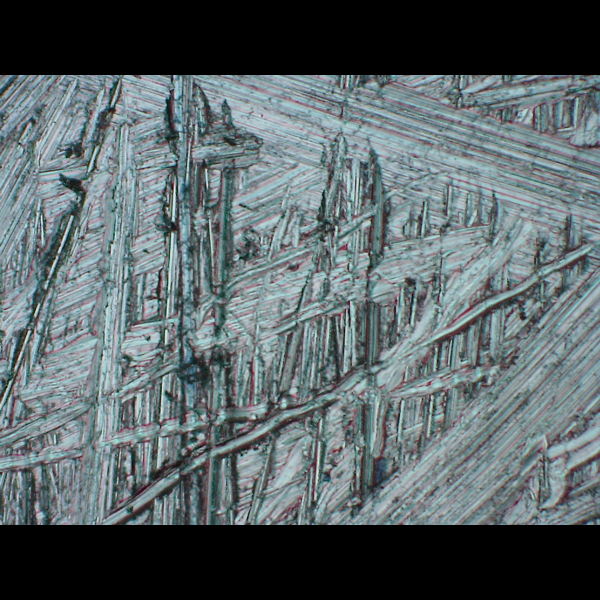d: (0, 75, 598, 523)
